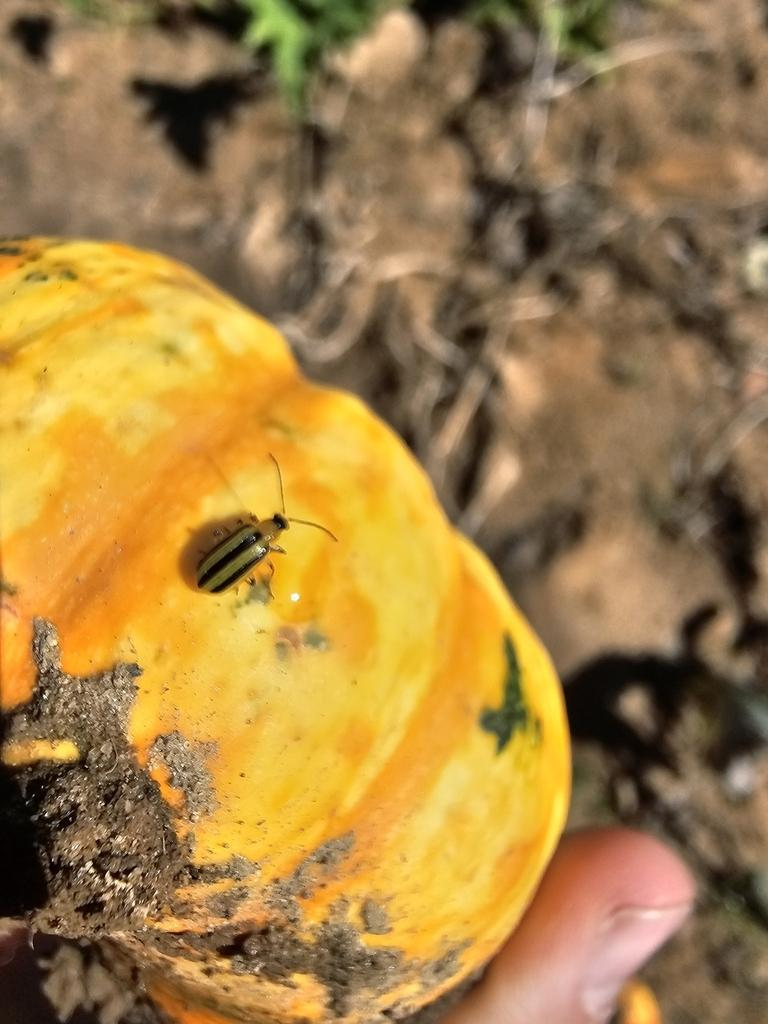potato_beetle: (164, 441, 361, 624)
